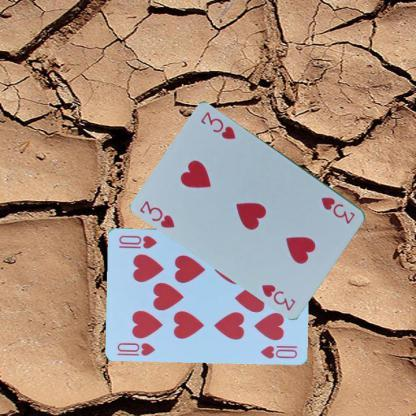10h: (115, 340, 157, 358)
3h: (136, 198, 178, 230), (318, 194, 356, 225)
